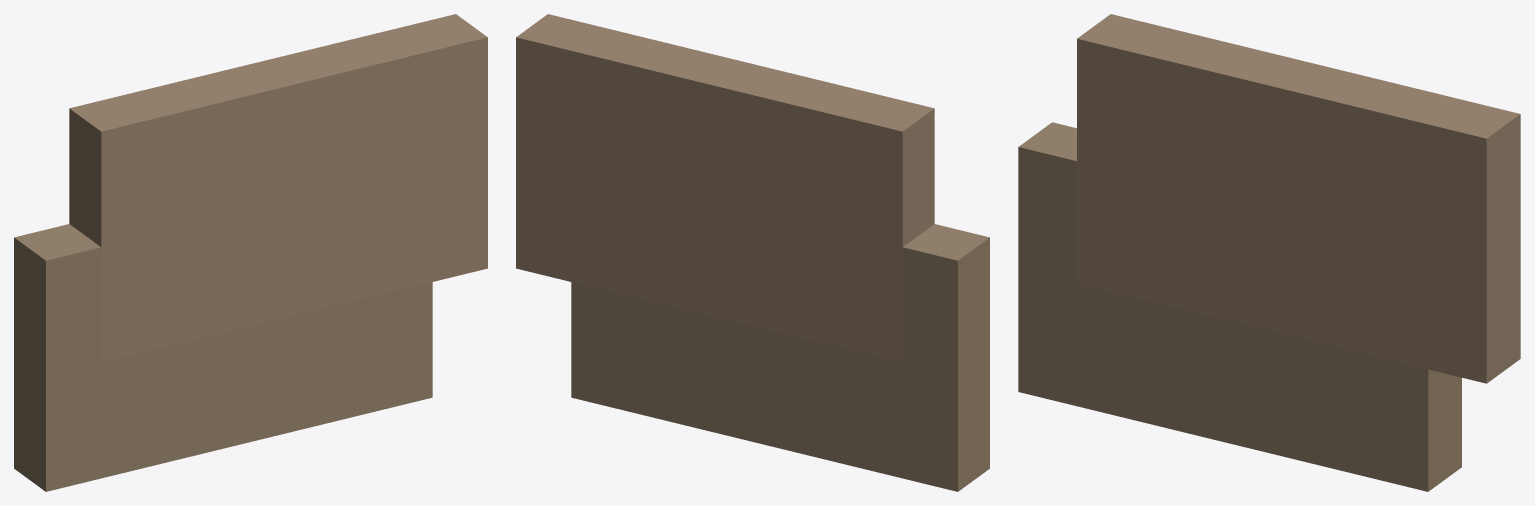
The model's file is artesonado_desgastada_01.glb.
3 renders of one model, left to right at view 1: azimuth 30°, elevation 25°; view 2: azimuth 150°, elevation 25°; view 3: azimuth 330°, elevation 25°, orthographic. The views are drawn at different scales.
Parts seen in each view (by area): view 1: artesonado_desgastada; view 2: artesonado_desgastada; view 3: artesonado_desgastada.
Part boxes in pixels (bbox=[...]): artesonado_desgastada: bbox=[14, 14, 487, 491]; artesonado_desgastada: bbox=[516, 14, 989, 491]; artesonado_desgastada: bbox=[1018, 14, 1520, 491].
Size of the model in its own units: 0.7273 by 0.5455 by 0.0909.
